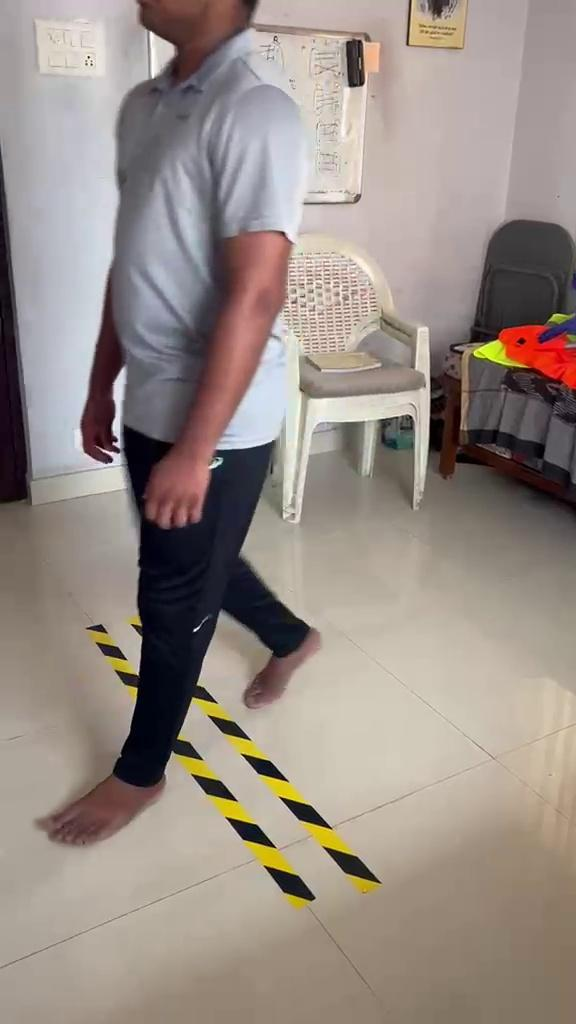BorderLine: (86, 611, 384, 909)
Person: (36, 2, 322, 849)
